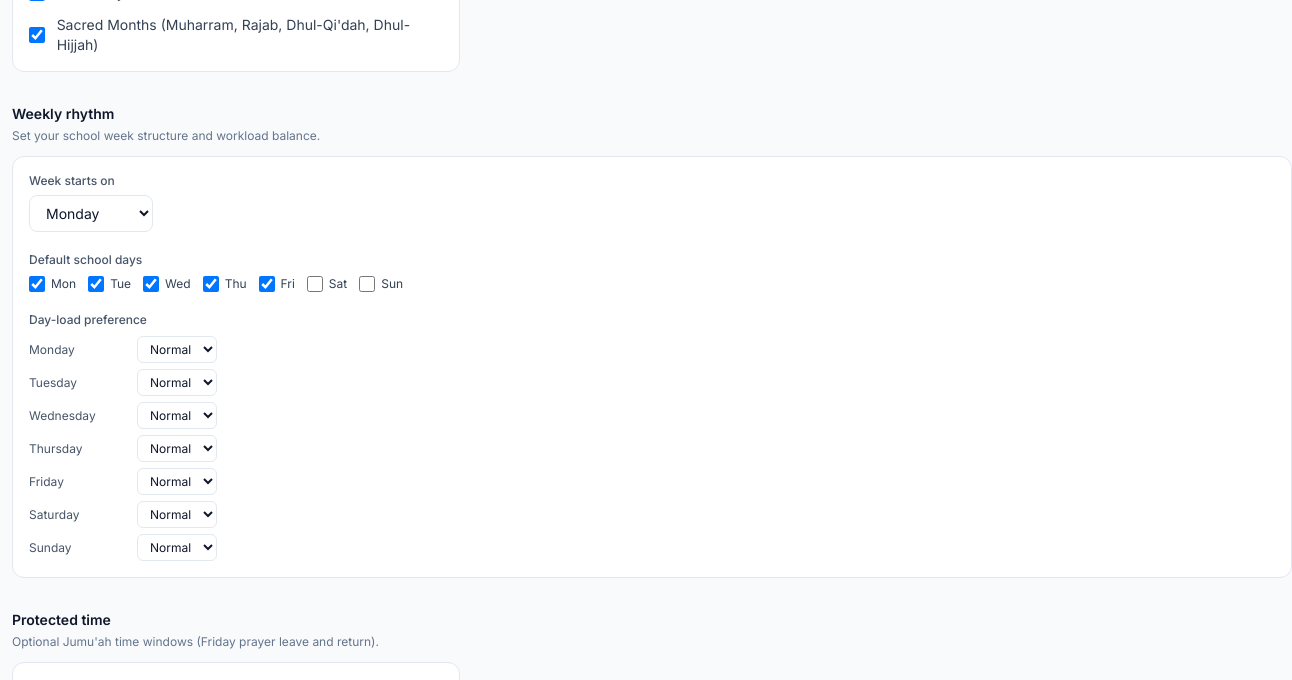
Scenario: HouseholdSettings — day-load preferences › changing a day load marks form as unsaved
(page scrolled)
Step 1. Select "Heavy" in the dropdown named "Monday load" → (177, 350), box [137,336,217,363]
(page scrolled)
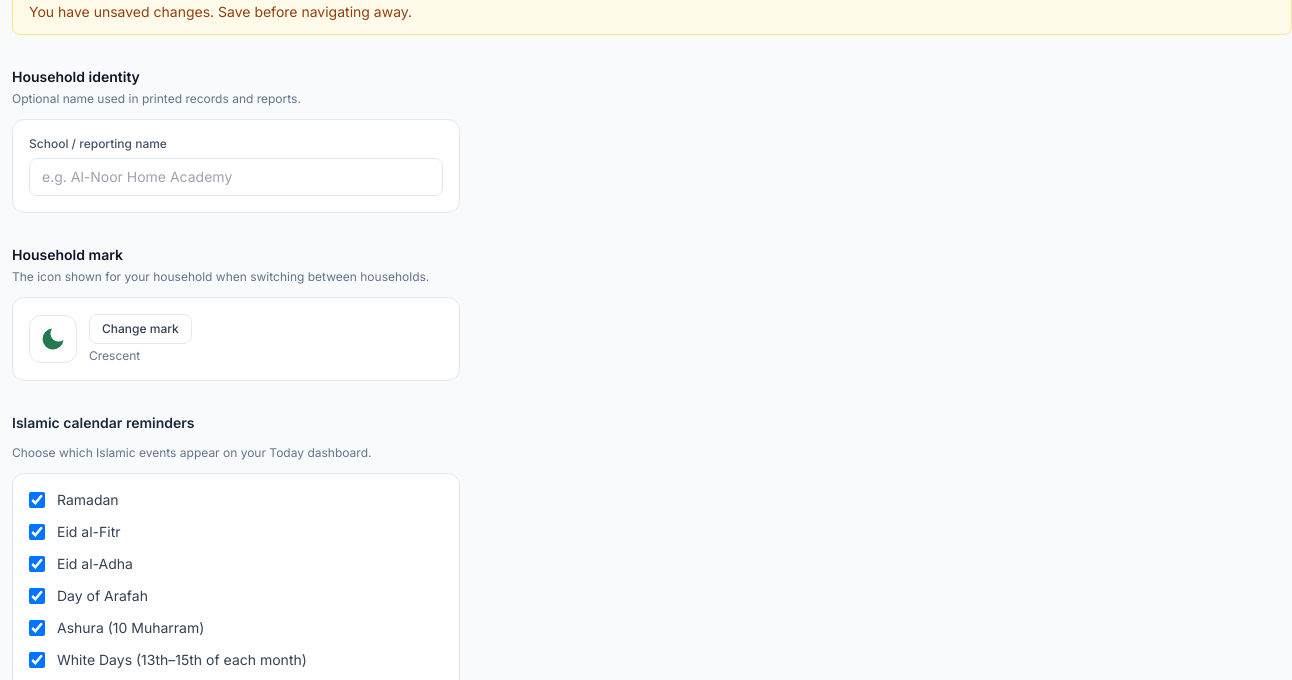
Check: the message shows "unsaved changes", box [29,3,412,20]
